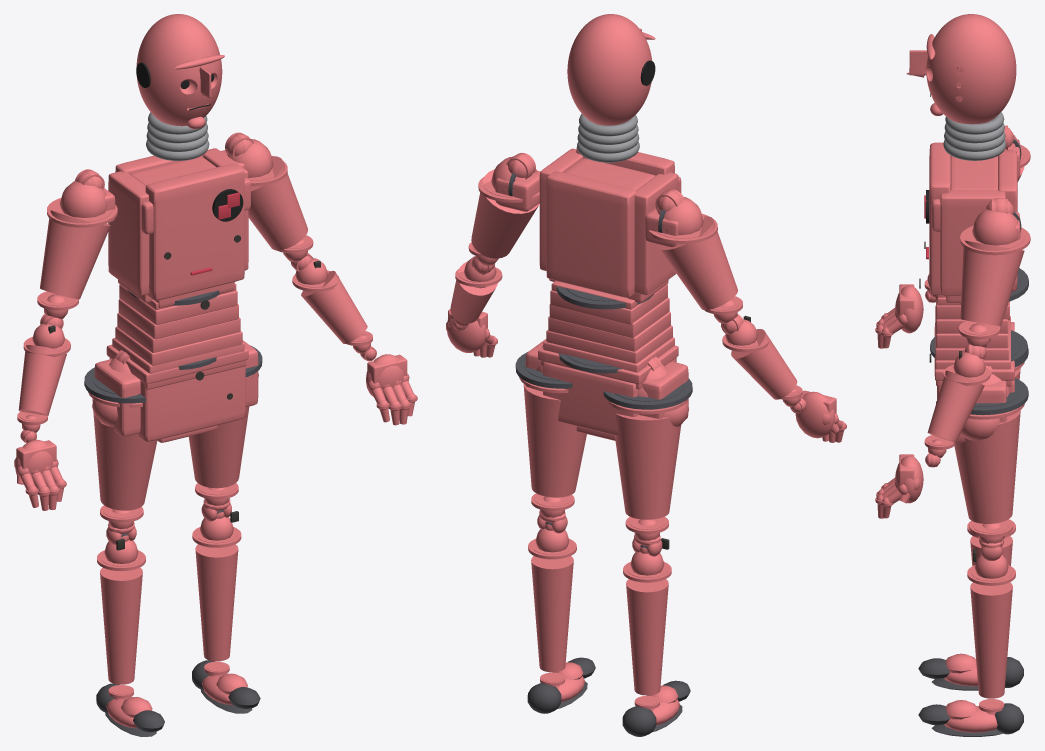
Rendered from Dummy_Mannequin_Red_Hier_Hi.fbx.
The picture shows the model from 3 angles, left to right: view 1: azimuth 30°, elevation 25°; view 2: azimuth 150°, elevation 25°; view 3: azimuth 270°, elevation 25°; orthographic projection.
Parts seen in each view (by area): view 1: Mesh_Chest, Mesh_Hips, Mesh_Head, Mesh_UpperArm_R, Mesh_UpperLeg_R, Mesh_LowerLeg_L, Mesh_LowerLeg_R, Mesh_UpperArm_L, Mesh_UpperLeg_L, Mesh_LowerArm_R, Mesh_LowerArm_L, Mesh_Hand_R (+5 smaller); view 2: Mesh_Chest, Mesh_UpperLeg_R, Mesh_Hips, Mesh_Head, Mesh_UpperLeg_L, Mesh_UpperArm_R, Mesh_LowerLeg_R, Mesh_LowerLeg_L, Mesh_UpperArm_L, Mesh_LowerArm_R, Mesh_LowerArm_L, Mesh_Neck (+5 smaller); view 3: Mesh_Chest, Mesh_Head, Mesh_UpperLeg_L, Mesh_UpperArm_L, Mesh_LowerLeg_L, Mesh_LowerArm_L, Mesh_Hips, Mesh_Foot_L, Mesh_Neck, Mesh_Foot_R, Mesh_Hand_L, Mesh_Hand_R (+3 smaller).
Boxes of the visible parts, x1,y1,x2,y2 form: Mesh_Chest: (104, 148, 250, 352); Mesh_Hips: (92, 338, 258, 442); Mesh_Head: (136, 14, 224, 129); Mesh_UpperArm_R: (37, 181, 117, 318); Mesh_UpperLeg_R: (84, 350, 157, 544); Mesh_LowerLeg_L: (192, 510, 241, 676); Mesh_LowerLeg_R: (97, 533, 145, 699); Mesh_UpperArm_L: (227, 139, 313, 262); Mesh_UpperLeg_L: (188, 345, 262, 521); Mesh_LowerArm_R: (17, 314, 70, 432); Mesh_LowerArm_L: (291, 253, 372, 353); Mesh_Hand_R: (14, 430, 66, 510); Mesh_Chest: (495, 147, 681, 351); Mesh_UpperLeg_R: (603, 357, 692, 556); Mesh_Hips: (525, 337, 688, 440); Mesh_Head: (567, 14, 655, 125); Mesh_UpperLeg_L: (515, 345, 586, 533); Mesh_UpperArm_R: (648, 197, 742, 323); Mesh_LowerLeg_R: (623, 538, 671, 711); Mesh_LowerLeg_L: (528, 522, 576, 688); Mesh_UpperArm_L: (468, 156, 539, 265); Mesh_LowerArm_R: (721, 314, 802, 406); Mesh_LowerArm_L: (449, 256, 502, 326); Mesh_Neck: (577, 114, 639, 162); Mesh_Chest: (919, 139, 1028, 348); Mesh_Head: (906, 14, 1016, 124); Mesh_UpperLeg_L: (954, 365, 1028, 560); Mesh_UpperArm_L: (958, 209, 1030, 347); Mesh_LowerLeg_L: (967, 549, 1015, 714); Mesh_LowerArm_L: (924, 344, 990, 457); Mesh_Hips: (929, 316, 1027, 442); Mesh_Foot_L: (918, 700, 1023, 736); Mesh_Neck: (943, 112, 1006, 160); Mesh_Foot_R: (918, 653, 1023, 690); Mesh_Hand_L: (875, 453, 940, 518); Mesh_Hand_R: (875, 284, 935, 348).
Bounding box in the file's own units: 1.07 × 1.81 × 0.3685.
